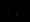person: (9, 8, 17, 19)
